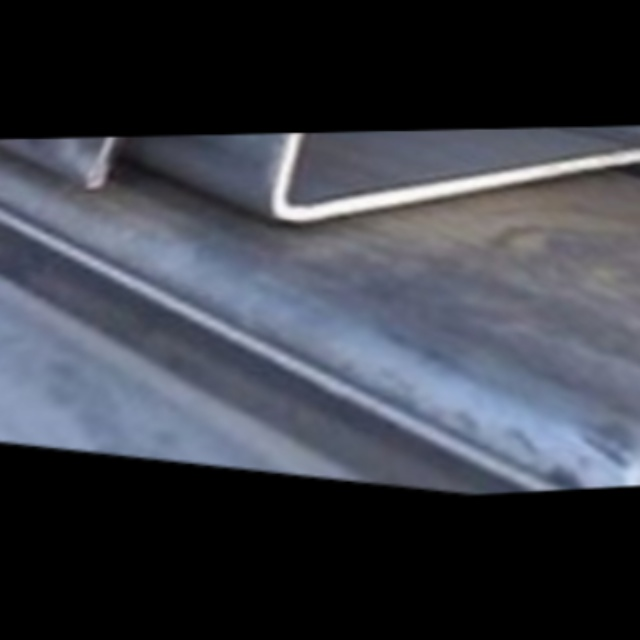Shveller: (86, 127, 600, 247), (278, 124, 640, 275), (514, 265, 640, 490)
